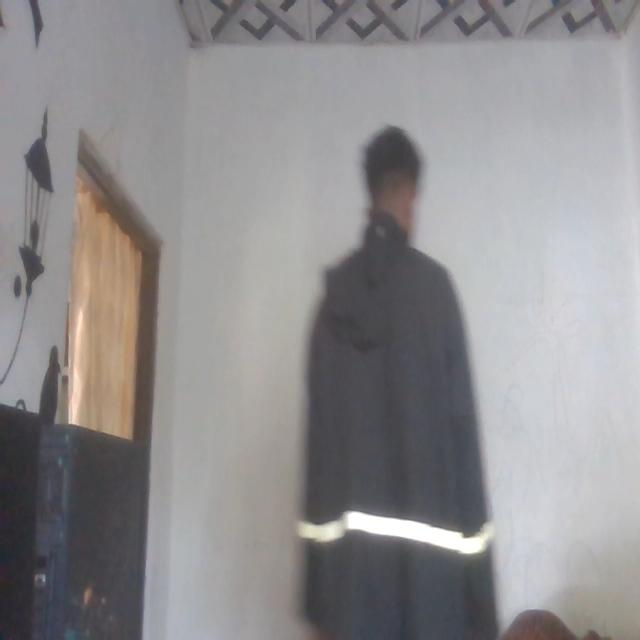Jacket_Wearer: (292, 215, 480, 640)
Person: (291, 118, 483, 638)
